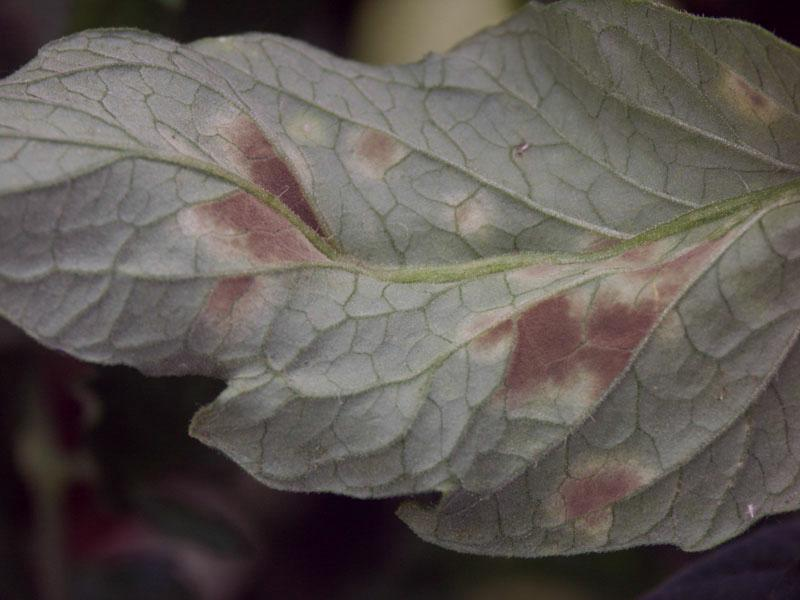Tomato mold leaf: (3, 10, 799, 575)
